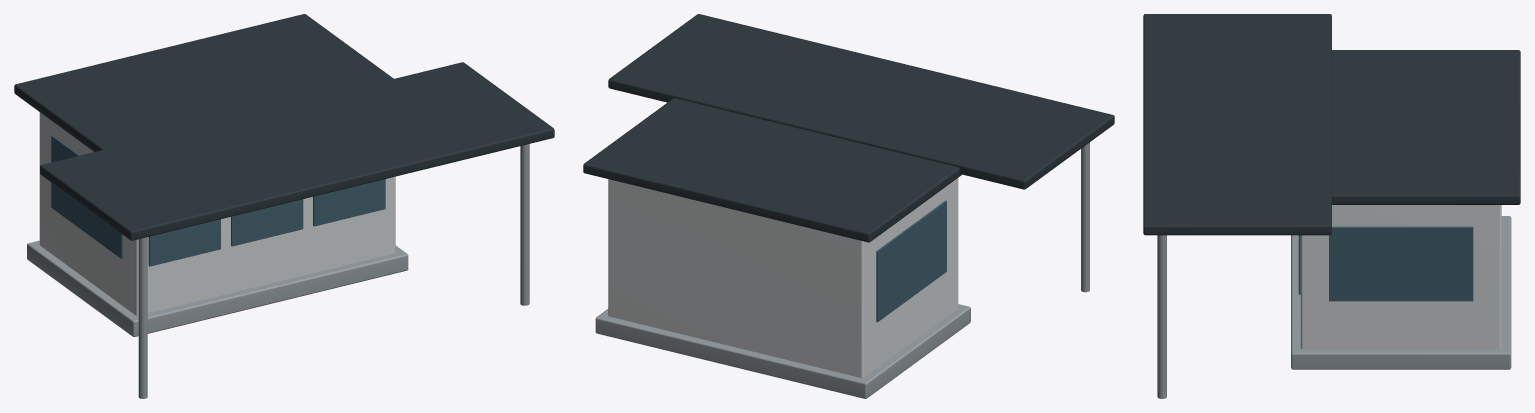
Rendered from SM_Guardhouse.fbx.
The picture shows the model from 3 angles, left to right: view 1: azimuth 30°, elevation 25°; view 2: azimuth 150°, elevation 25°; view 3: azimuth 270°, elevation 25°; orthographic projection. The views are drawn at different scales.
Parts seen in each view (by area): view 1: SM_Guardhouse; view 2: SM_Guardhouse; view 3: SM_Guardhouse.
Part boxes in pixels (x1,y1,x2,y2): SM_Guardhouse: (14, 14, 554, 398); SM_Guardhouse: (583, 14, 1114, 398); SM_Guardhouse: (1143, 14, 1520, 398).
Size of the model in its own units: 800 by 600 by 319.
